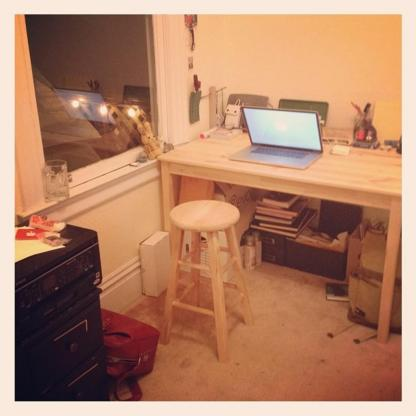board: (239, 95, 329, 165)
